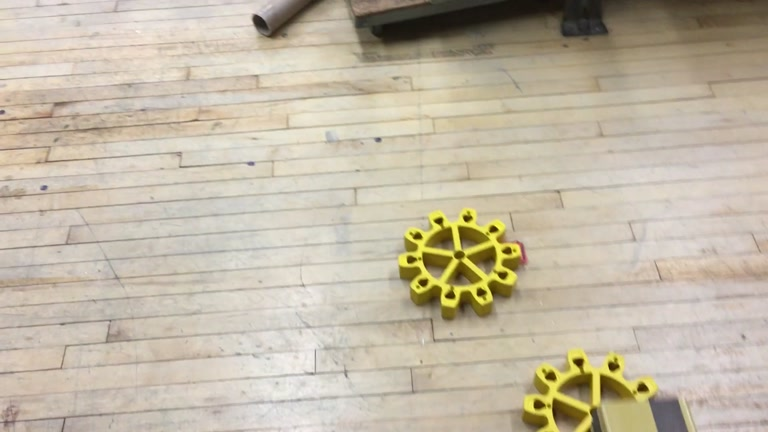gear: (397, 208, 524, 321), (520, 348, 667, 432)
